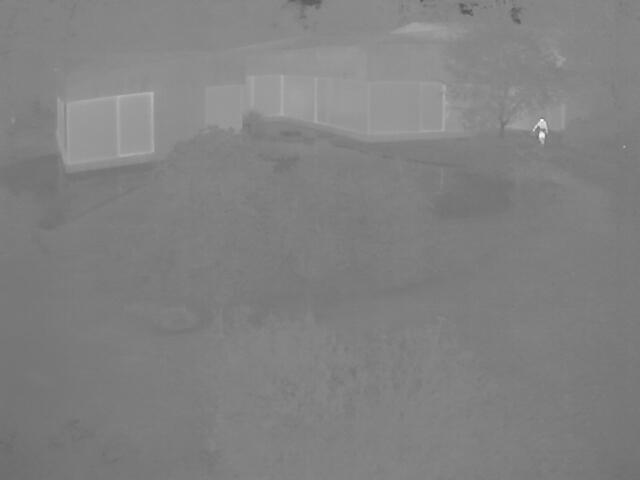person: (531, 116, 547, 144)
